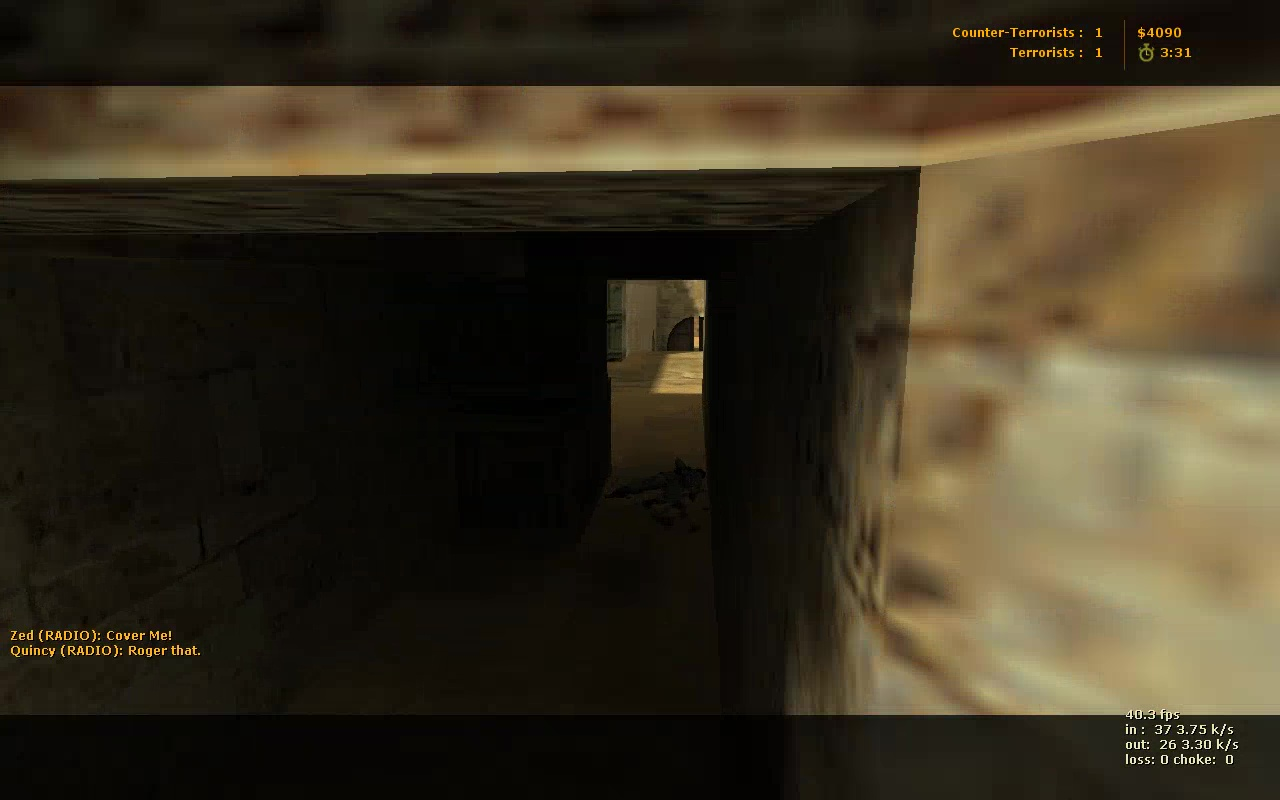dead: (606, 456, 708, 513)
